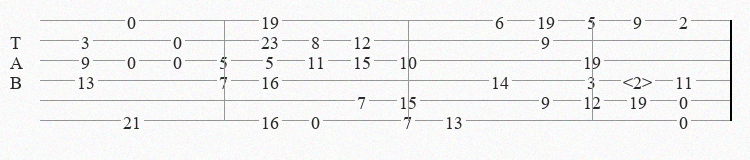0: (127, 52, 140, 68), (127, 12, 140, 28), (173, 52, 186, 68), (173, 32, 186, 48), (311, 112, 324, 128), (679, 92, 692, 108), (679, 112, 692, 128)
10: (399, 52, 421, 68)
11: (307, 52, 329, 68), (675, 72, 697, 88)
12: (353, 32, 375, 48), (583, 92, 605, 108)
13: (77, 72, 99, 88), (445, 112, 467, 128)
14: (491, 72, 513, 88)
15: (353, 52, 375, 68), (399, 92, 421, 108)
16: (261, 72, 283, 88), (261, 112, 283, 128)
19: (261, 12, 283, 28), (537, 12, 559, 28), (583, 52, 605, 68), (629, 92, 651, 108)
2: (679, 12, 692, 28)
21: (123, 112, 145, 128)
23: (261, 32, 283, 48)
3: (81, 32, 94, 48), (587, 72, 600, 88)
5: (219, 52, 232, 68), (265, 52, 278, 68), (587, 12, 600, 28)
6: (495, 12, 508, 28)
7: (219, 72, 232, 88), (357, 92, 370, 108), (403, 112, 416, 128)
8: (311, 32, 324, 48)
9: (81, 52, 94, 68), (541, 92, 554, 108), (541, 32, 554, 48), (633, 12, 646, 28)
harmonic: (623, 72, 656, 88)
